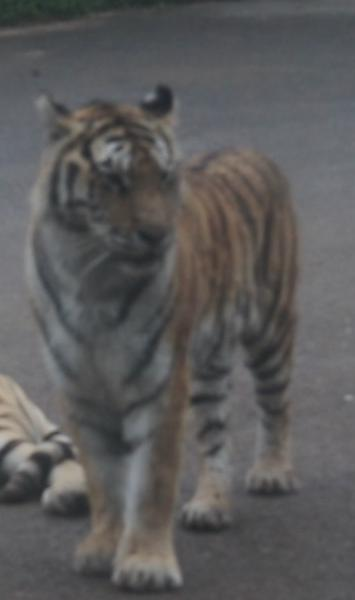tiger: (25, 86, 298, 589)
